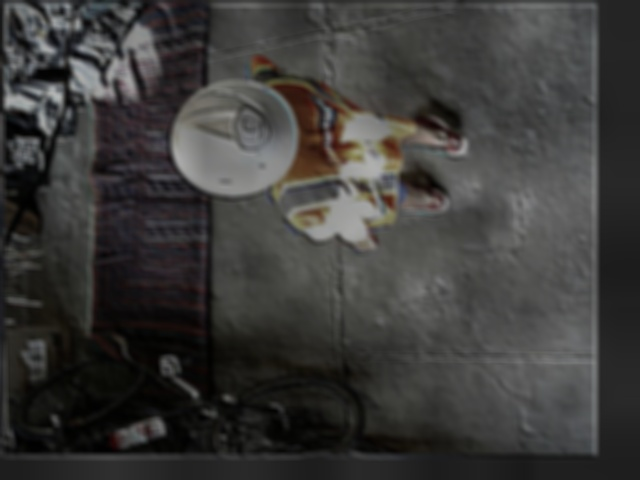two: (231, 108, 268, 152)
